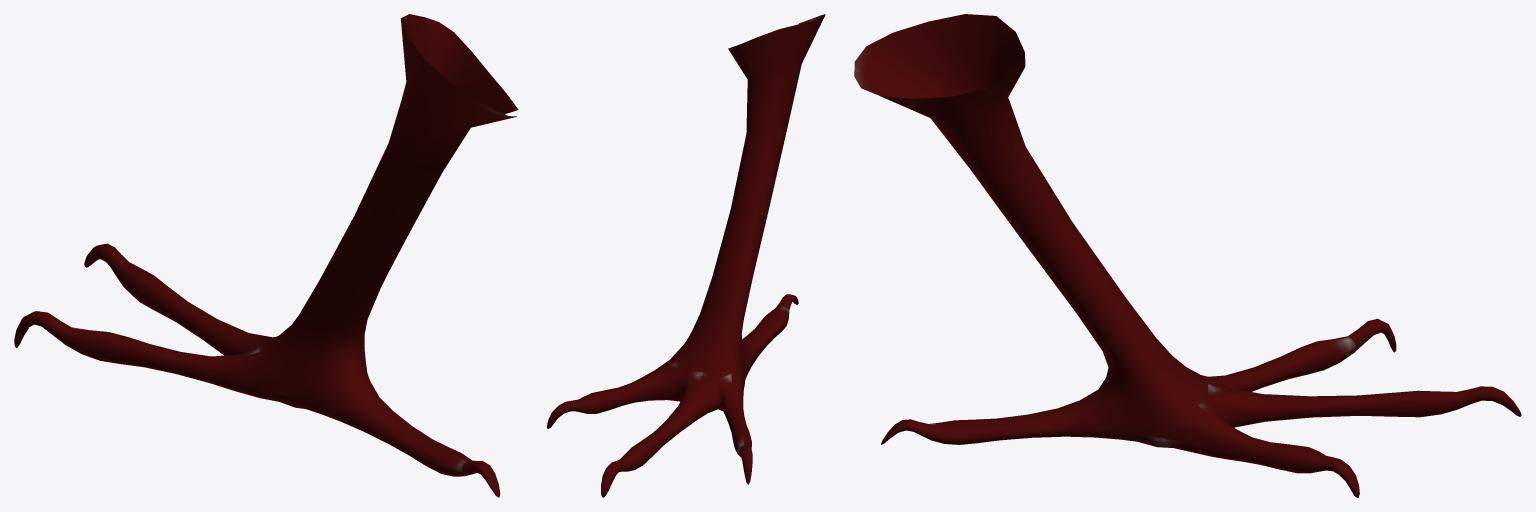
Rendered from PiernaIzqPajaroProyectorPicapiedras.obj.
3 renders of one model, left to right at view 1: azimuth 30°, elevation 25°; view 2: azimuth 150°, elevation 25°; view 3: azimuth 270°, elevation 25°, orthographic. The views are drawn at different scales.
Parts seen in each view (by area): view 1: polySurface50 polySurface46 polySurface45; view 2: polySurface50 polySurface46 polySurface45; view 3: polySurface50 polySurface46 polySurface45.
Part boxes in pixels (<box>): polySurface50 polySurface46 polySurface45: <box>14,14,518,497</box>; polySurface50 polySurface46 polySurface45: <box>547,14,825,497</box>; polySurface50 polySurface46 polySurface45: <box>854,14,1521,497</box>.
Size of the model in its own units: 2.43 by 3.43 by 4.92.
Materials: 1 (1 with a texture image).
